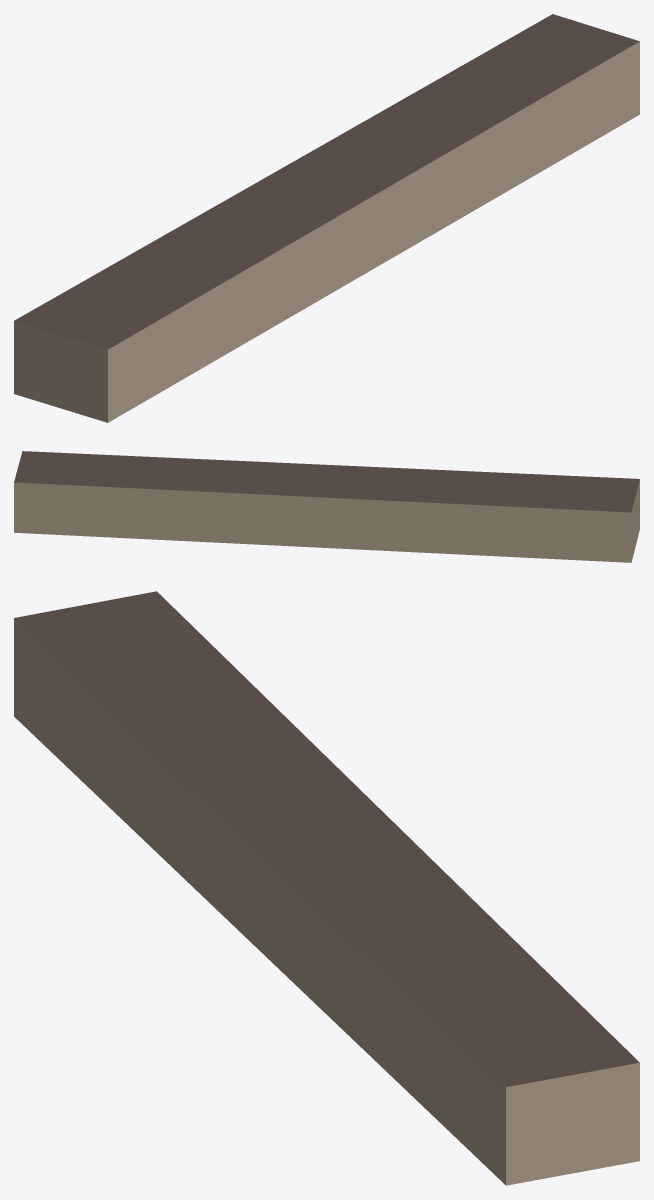
3 views of the same model, one above another, from view 1: azimuth 30°, elevation 25°; view 2: azimuth 150°, elevation 25°; view 3: azimuth 270°, elevation 25° (orthographic). The views are drawn at different scales.
Parts seen in each view (by area): view 1: HP-w859086209; view 2: HP-w859086209; view 3: HP-w859086209.
Part boxes in pixels (left/top/right/bottom): HP-w859086209: left=14, top=14, right=639, bottom=422; HP-w859086209: left=14, top=451, right=639, bottom=562; HP-w859086209: left=14, top=591, right=639, bottom=1185.
Size of the model in its own units: 97.2 by 9 by 51.84.
